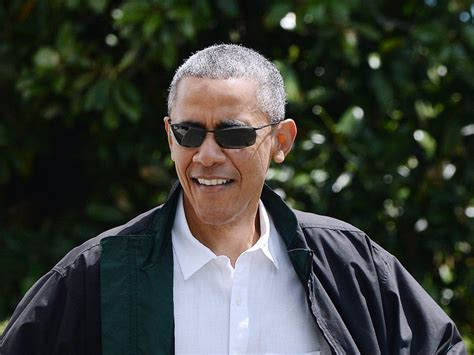sem_capacete: (154, 50, 303, 234)
